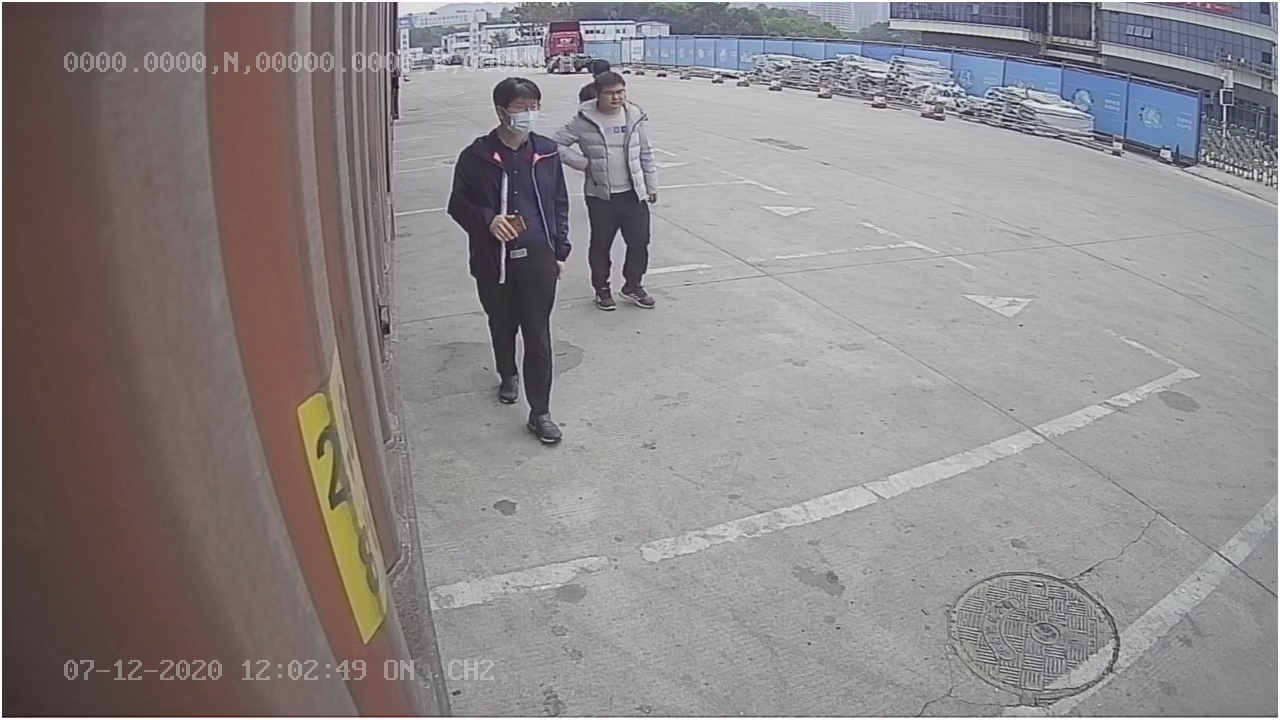person: (448, 66, 575, 446)
